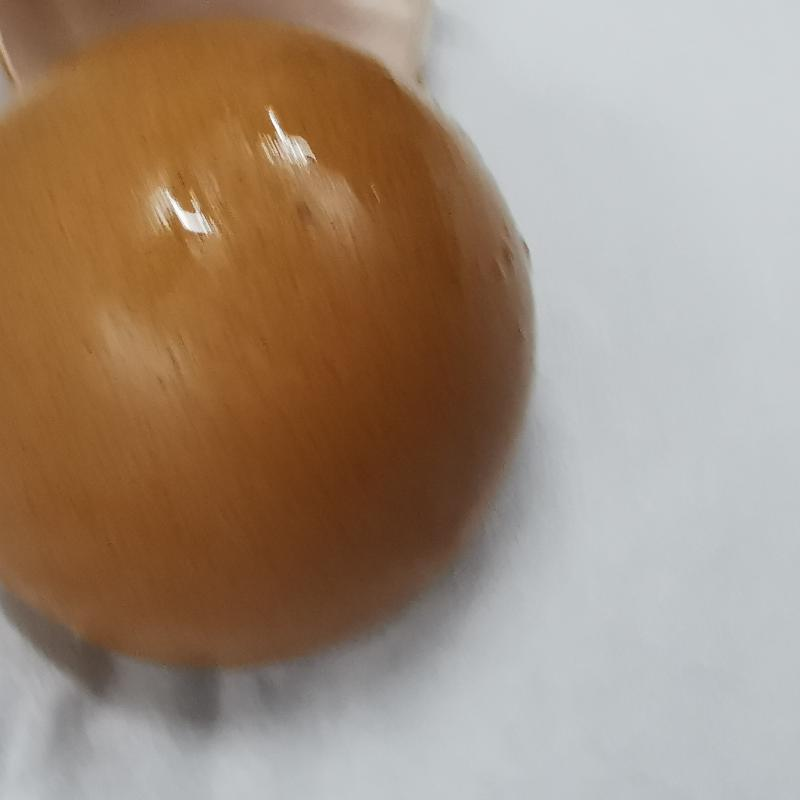eggshell: (7, 16, 536, 668)
